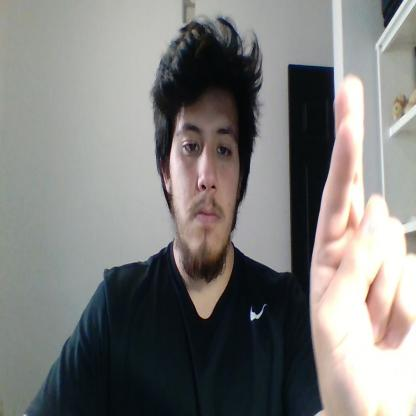R: (310, 75, 415, 415)
